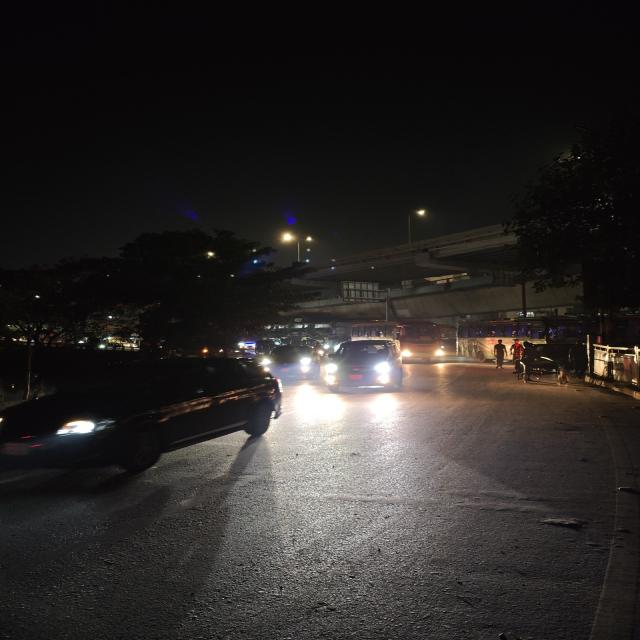bus: (393, 320, 449, 363)
car: (0, 351, 287, 494), (319, 338, 409, 395), (264, 338, 322, 376)
pedestrian: (508, 337, 528, 371), (491, 340, 508, 370)
rickshaw: (517, 352, 572, 388)
